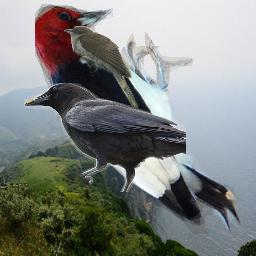Crow: (24, 83, 186, 192)
Cuckoo: (64, 26, 138, 110)
Woodpecker: (35, 4, 249, 234)
